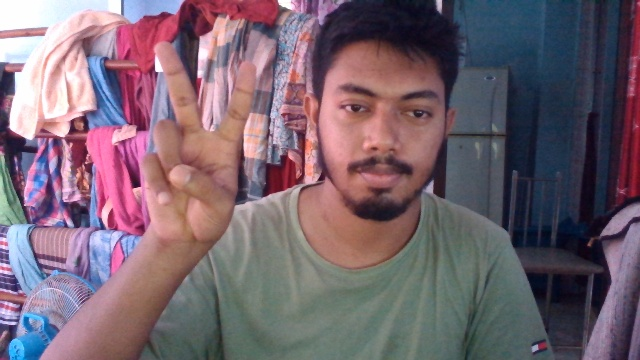thanks: (128, 32, 262, 264)
